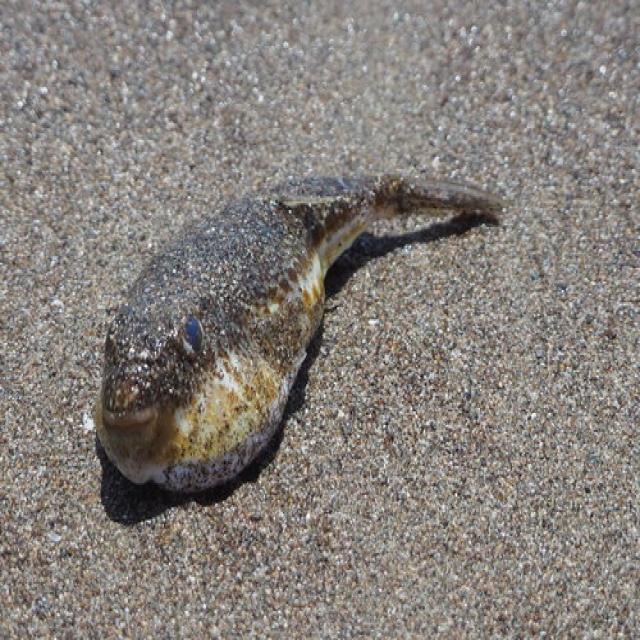Balik: (96, 176, 503, 491)
